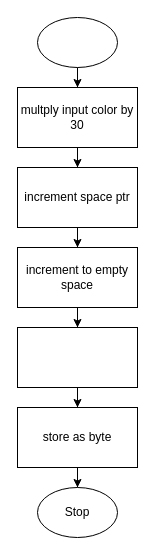
Some shapes in this 155 by 555 pixel diagram are drawn without their labels. Each missing label, with the centre of its shape:
"coord_to_byte" belongs at point 77,357.
"Start" belongs at point 77,42.
